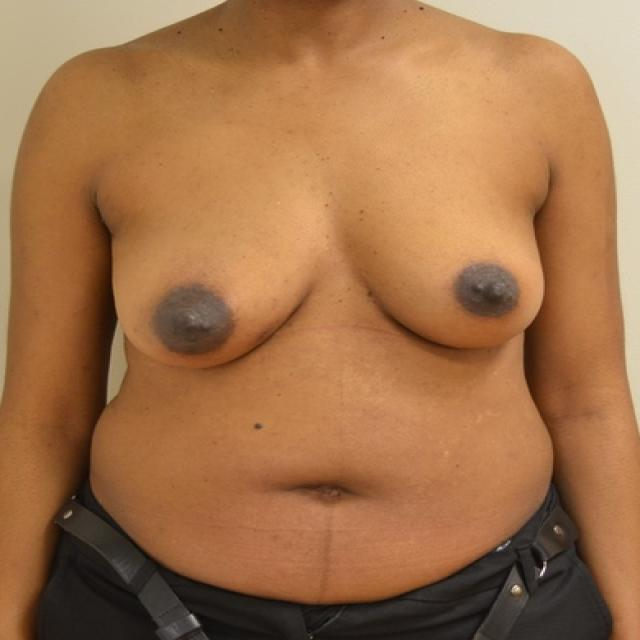Seno ileso: (103, 178, 325, 380), (340, 178, 551, 362)
